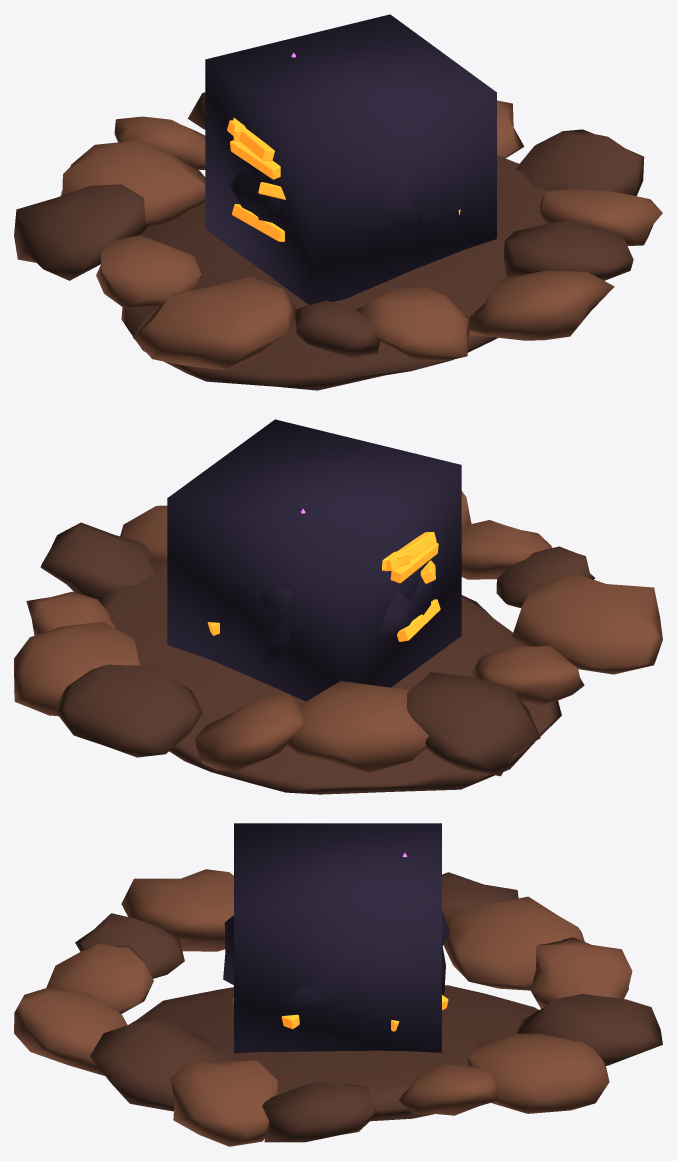
Rendered from meteor.glb.
3 renders of one model, top to bottom at view 1: azimuth 30°, elevation 25°; view 2: azimuth 150°, elevation 25°; view 3: azimuth 270°, elevation 25°, orthographic. The views are drawn at different scales.
Parts seen in each view (by area): view 1: COL_rock, crater floor, rim 8, rim 6, rim 11, rim 5, rim 0, rim 10, rim 12, rim 7, rim 13, rim 9 (+6 smaller); view 2: COL_rock, crater floor, rim 8, rim 3, rim 6, rim 5, rim 2, rim 0, rim 4, rim 7, rim 10, rim 9 (+6 smaller); view 3: COL_rock, crater floor, rim 2, rim 5, rim 13, rim 12, rim 8, rim 3, rim 11, rim 0, rim 4, rim 10 (+4 smaller).
Part boxes in pixels (bbox=[...]): COL_rock: bbox=[205, 14, 496, 304]; crater floor: bbox=[121, 155, 550, 390]; rim 8: bbox=[133, 276, 296, 370]; rim 6: bbox=[14, 184, 147, 280]; rim 11: bbox=[468, 270, 614, 340]; rim 5: bbox=[60, 140, 205, 229]; rim 0: bbox=[515, 129, 644, 195]; rim 10: bbox=[356, 287, 469, 361]; rim 12: bbox=[504, 221, 633, 280]; rim 7: bbox=[96, 235, 201, 308]; rim 13: bbox=[539, 188, 662, 245]; rim 9: bbox=[294, 300, 379, 357]; COL_rock: bbox=[167, 419, 461, 701]; crater floor: bbox=[99, 557, 561, 794]; rim 8: bbox=[512, 572, 662, 674]; rim 3: bbox=[55, 664, 202, 757]; rim 6: bbox=[406, 672, 540, 776]; rim 5: bbox=[286, 680, 428, 772]; rim 2: bbox=[14, 621, 140, 716]; rim 0: bbox=[40, 522, 156, 600]; rim 4: bbox=[194, 694, 303, 770]; rim 7: bbox=[470, 646, 584, 706]; rim 10: bbox=[461, 520, 552, 579]; rim 9: bbox=[496, 546, 595, 608]; COL_rock: bbox=[234, 823, 441, 1053]; crater floor: bbox=[129, 985, 538, 1121]; rim 2: bbox=[466, 1033, 609, 1113]; rim 5: bbox=[443, 896, 584, 990]; rim 13: bbox=[170, 1059, 277, 1146]; rim 12: bbox=[90, 1016, 229, 1111]; rim 8: bbox=[121, 869, 233, 951]; rim 3: bbox=[516, 994, 662, 1065]; rim 11: bbox=[14, 987, 127, 1075]; rim 0: bbox=[262, 1081, 377, 1142]; rim 4: bbox=[531, 937, 632, 1008]; rim 10: bbox=[46, 944, 153, 1013].
Bounding box in the file's own units: 4.73 × 1.99 × 4.99.
